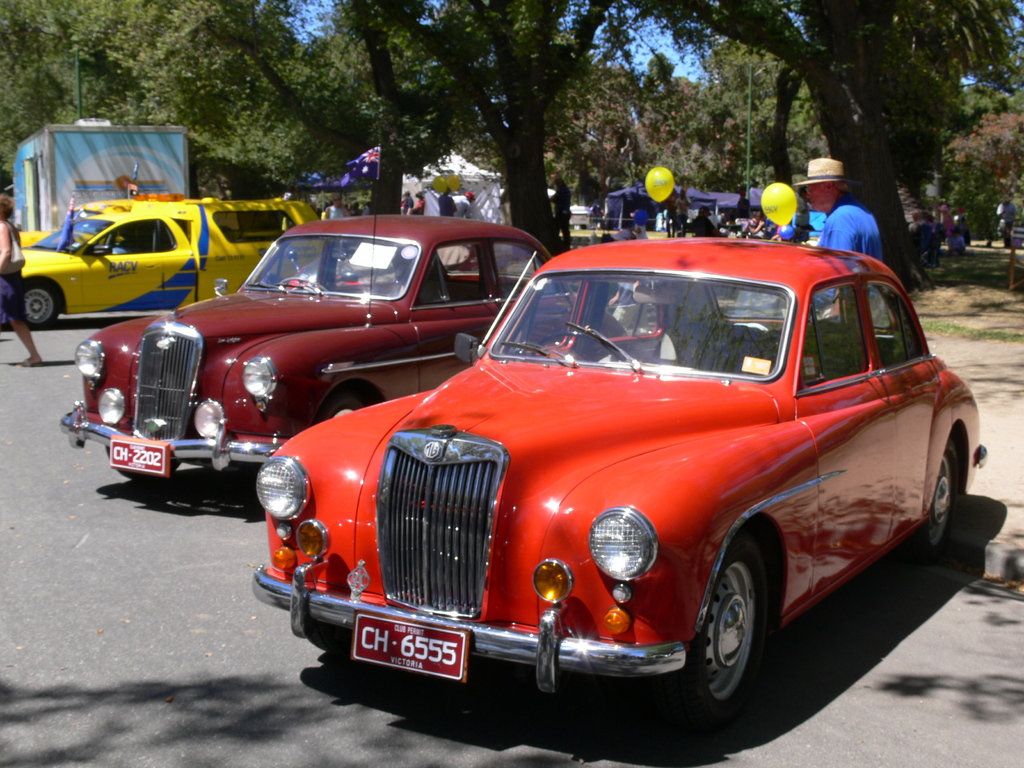Car: (250, 244, 964, 725), (58, 209, 561, 477), (16, 225, 96, 249)
